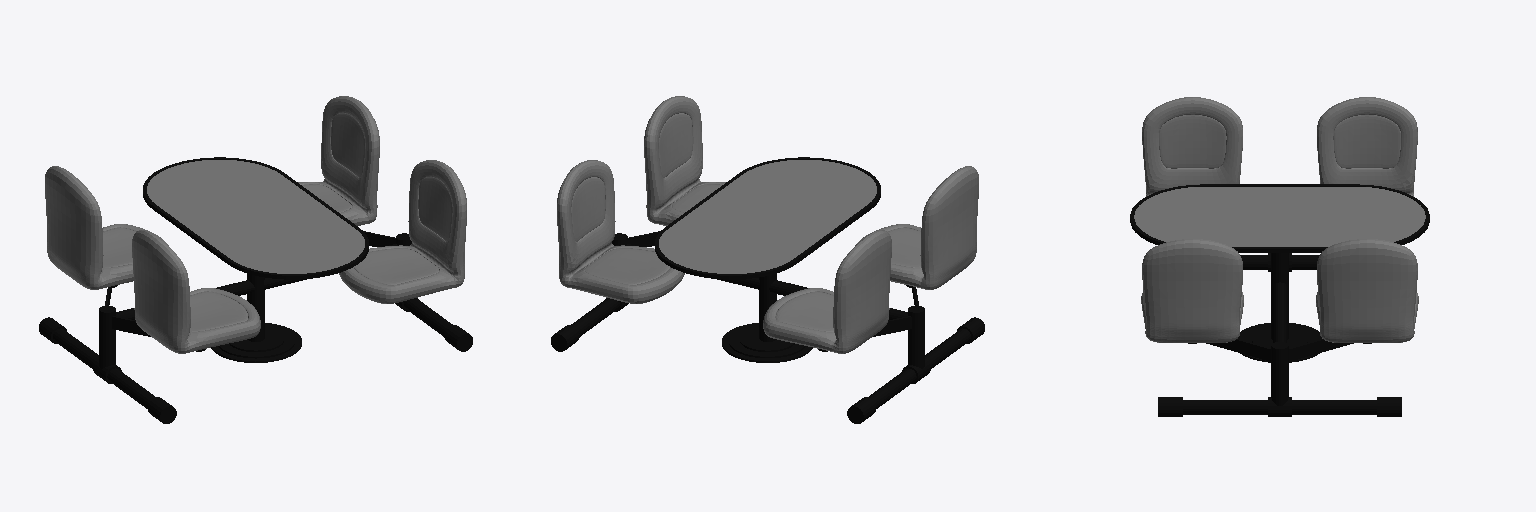
Rendered from table.obj.
3 renders of one model, left to right at view 1: azimuth 30°, elevation 25°; view 2: azimuth 150°, elevation 25°; view 3: azimuth 270°, elevation 25°, orthographic.
Parts seen in each view (by area): view 1: Cylinder018; view 2: Cylinder018; view 3: Cylinder018.
Part boxes in pixels (x1,y1,x2,y2): Cylinder018: (39,96,472,423); Cylinder018: (551,96,984,423); Cylinder018: (1130,97,1429,416).
Size of the model in its own units: 1.69 by 0.9031 by 1.4.